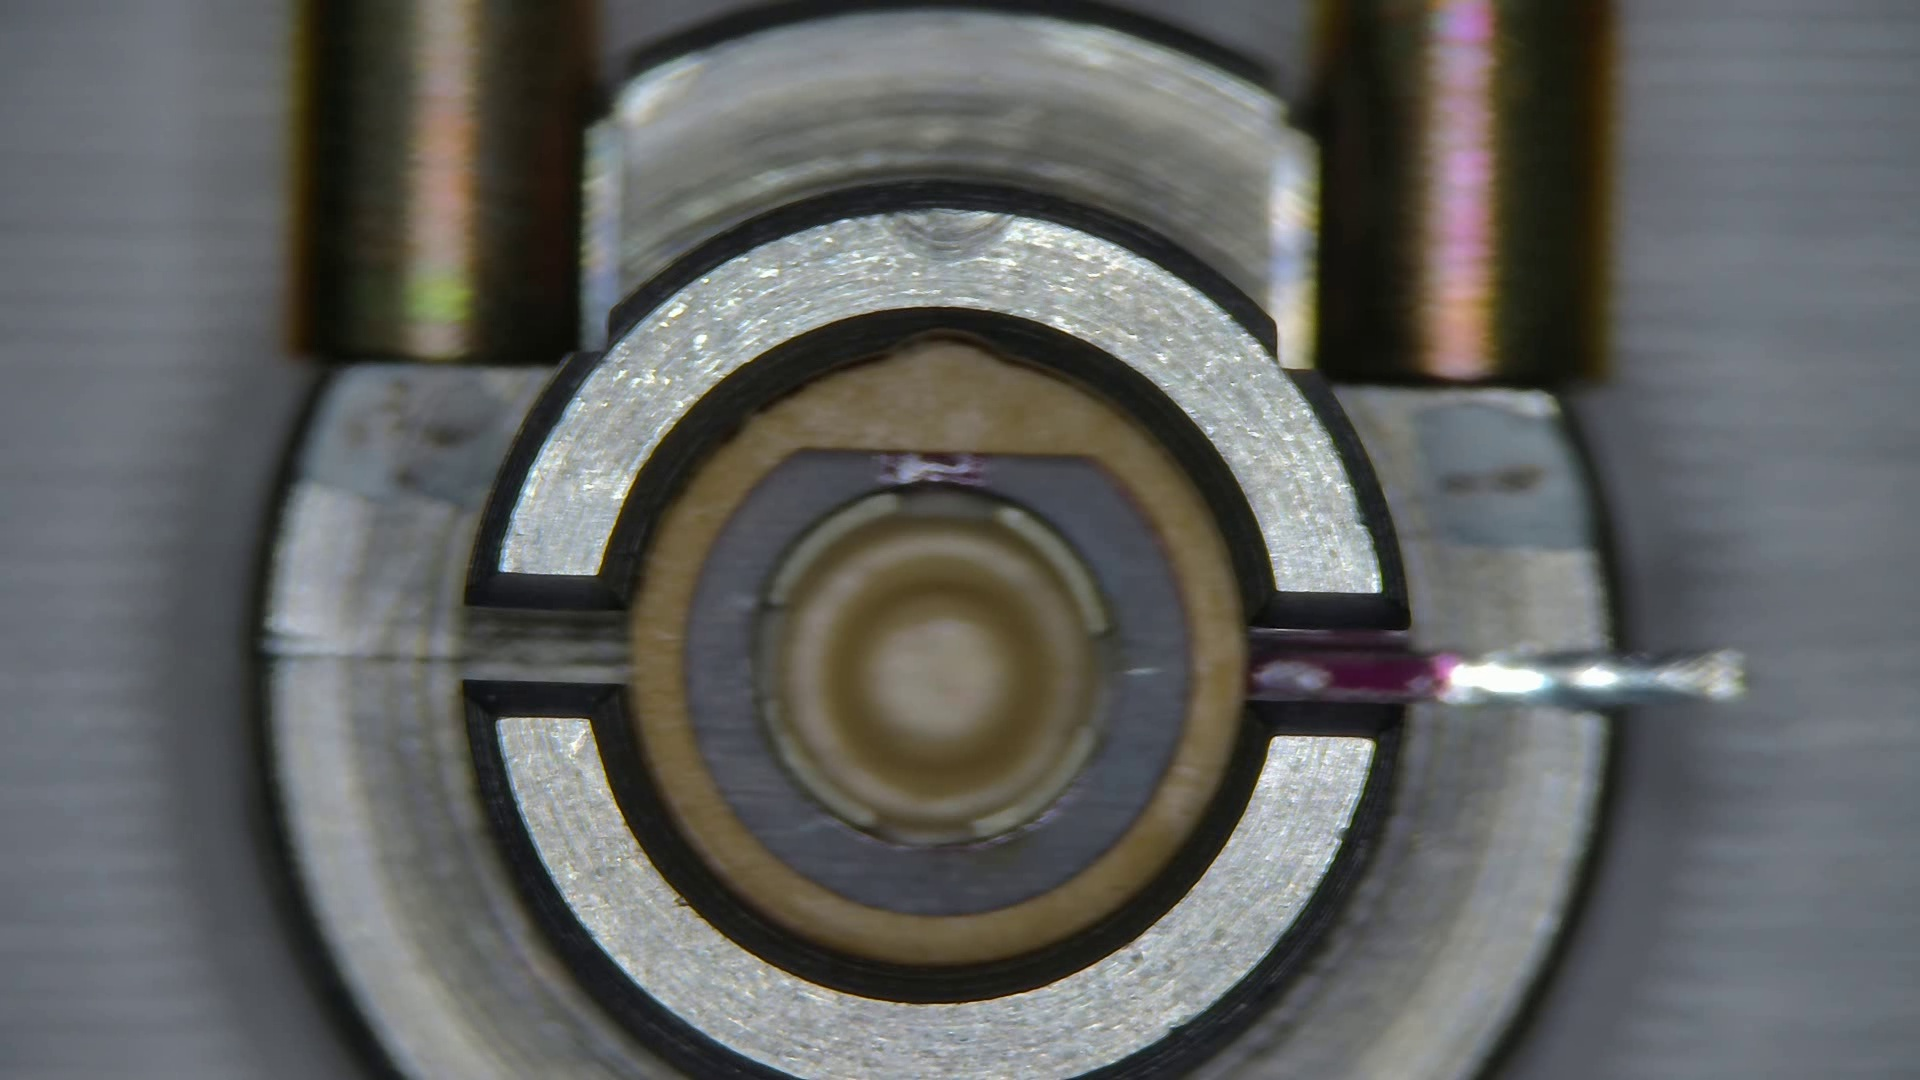YellowOring: (687, 450, 1188, 916)
redOring: (630, 342, 1247, 964)
